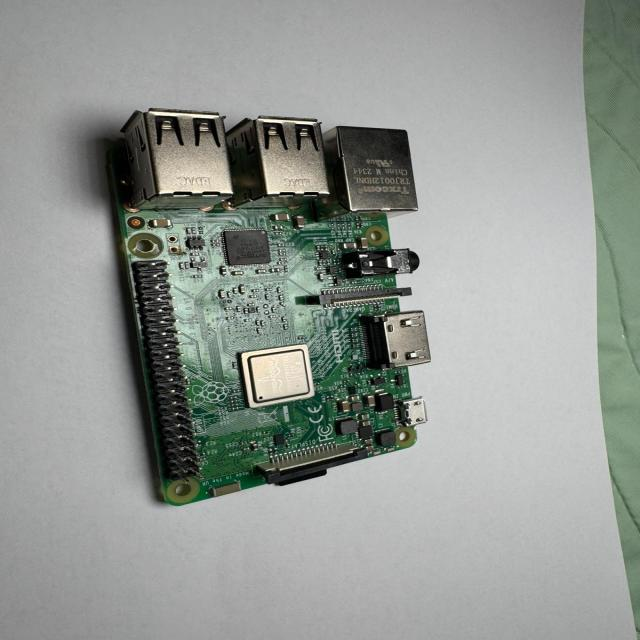CPU: (234, 343, 318, 410)
Ethernet: (324, 125, 421, 217)
GPIO: (127, 261, 200, 482)
HDMI: (361, 311, 435, 370)
RAM-3: (216, 228, 276, 274)
Raspberry: (105, 110, 432, 509)
